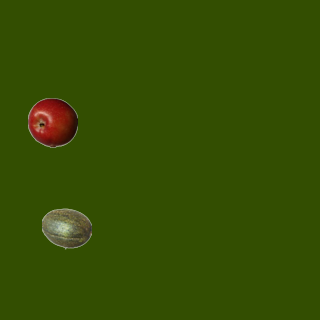Apple Braeburn: (27, 97, 77, 147)
Melon Piel de Sapo: (41, 203, 91, 253)
